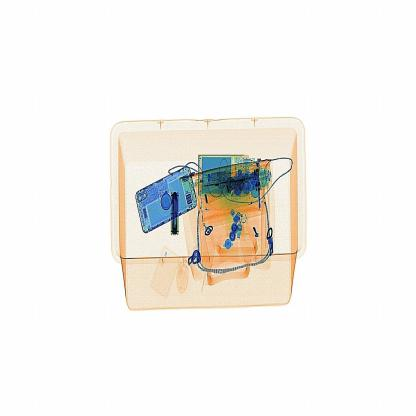scissors: (166, 184, 192, 247)
